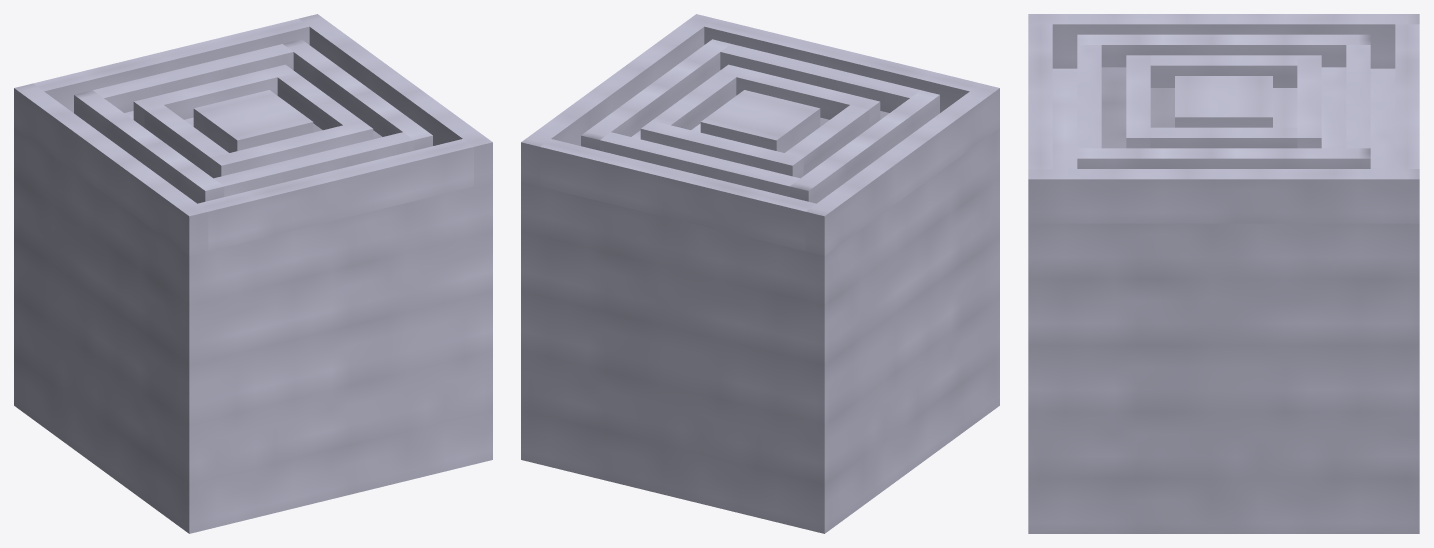
Rendered from mob_harvester.obj.
3 views of the same model, side by side, from view 1: azimuth 30°, elevation 25°; view 2: azimuth 150°, elevation 25°; view 3: azimuth 270°, elevation 25° (orthographic). The views are drawn at different scales.
Parts seen in each view (by area): view 1: ModelHarvester_Shape1, ModelHarvester_Shape3ab1, ModelHarvester_Shape2an, ModelHarvester_Shape2, ModelHarvester_Shape3, ModelHarvester_Shape2ab, ModelHarvester_Shape5, ModelHarvester_Shape2a, ModelHarvester_Shape3a, ModelHarvester_Shape3a1, ModelHarvester_Shape3a2, ModelHarvester_Shape3ab (+2 smaller); view 2: ModelHarvester_Shape1, ModelHarvester_Shape3, ModelHarvester_Shape2an, ModelHarvester_Shape2, ModelHarvester_Shape3ab1, ModelHarvester_Shape2ab, ModelHarvester_Shape5, ModelHarvester_Shape2a, ModelHarvester_Shape3a1, ModelHarvester_Shape3a, ModelHarvester_Shape3ab, ModelHarvester_Shape3a2 (+2 smaller); view 3: ModelHarvester_Shape1, ModelHarvester_Shape2, ModelHarvester_Shape2an, ModelHarvester_Shape2ab, ModelHarvester_Shape4, ModelHarvester_Shape2a, ModelHarvester_Shape5, ModelHarvester_Shape2aba, ModelHarvester_Shape3, ModelHarvester_Shape3ab1, ModelHarvester_Shape2ab1, ModelHarvester_Shape3a (+3 smaller).
Boxes of the visible parts, <box> form: ModelHarvester_Shape1: <box>14,128,492,533</box>; ModelHarvester_Shape3ab1: <box>198,139,473,251</box>; ModelHarvester_Shape2an: <box>14,83,208,255</box>; ModelHarvester_Shape2: <box>299,14,492,186</box>; ModelHarvester_Shape3: <box>33,18,309,112</box>; ModelHarvester_Shape2ab: <box>74,90,224,203</box>; ModelHarvester_Shape5: <box>193,90,313,152</box>; ModelHarvester_Shape2a: <box>283,39,432,150</box>; ModelHarvester_Shape3a: <box>93,44,293,112</box>; ModelHarvester_Shape3a1: <box>214,132,413,196</box>; ModelHarvester_Shape3a2: <box>210,121,373,178</box>; ModelHarvester_Shape3ab: <box>133,64,295,127</box>; ModelHarvester_Shape1: <box>521,128,999,533</box>; ModelHarvester_Shape3: <box>540,139,815,251</box>; ModelHarvester_Shape2an: <box>805,83,999,255</box>; ModelHarvester_Shape2: <box>521,14,714,186</box>; ModelHarvester_Shape3ab1: <box>704,18,980,112</box>; ModelHarvester_Shape2ab: <box>789,90,939,203</box>; ModelHarvester_Shape5: <box>700,90,820,152</box>; ModelHarvester_Shape2a: <box>581,39,730,150</box>; ModelHarvester_Shape3a1: <box>720,44,920,112</box>; ModelHarvester_Shape3a: <box>600,132,799,196</box>; ModelHarvester_Shape3ab: <box>640,121,803,178</box>; ModelHarvester_Shape3a2: <box>718,64,880,127</box>; ModelHarvester_Shape1: <box>1028,68,1419,533</box>; ModelHarvester_Shape2: <box>1028,169,1419,223</box>; ModelHarvester_Shape2an: <box>1028,14,1419,68</box>; ModelHarvester_Shape2ab: <box>1077,34,1370,67</box>; ModelHarvester_Shape4: <box>1101,67,1346,148</box>; ModelHarvester_Shape2a: <box>1077,148,1370,168</box>; ModelHarvester_Shape5: <box>1175,76,1272,127</box>; ModelHarvester_Shape2aba: <box>1150,55,1297,87</box>; ModelHarvester_Shape3: <box>1395,24,1419,168</box>; ModelHarvester_Shape3ab1: <box>1028,24,1052,168</box>; ModelHarvester_Shape2ab1: <box>1150,127,1297,148</box>; ModelHarvester_Shape3a: <box>1346,45,1370,148</box>.
Size of the model in its own units: 1 by 1 by 1.
